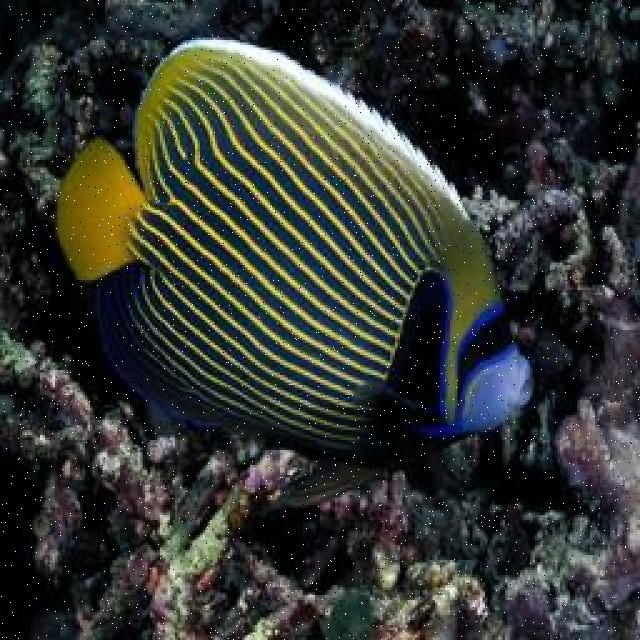fish: (55, 39, 534, 508)
